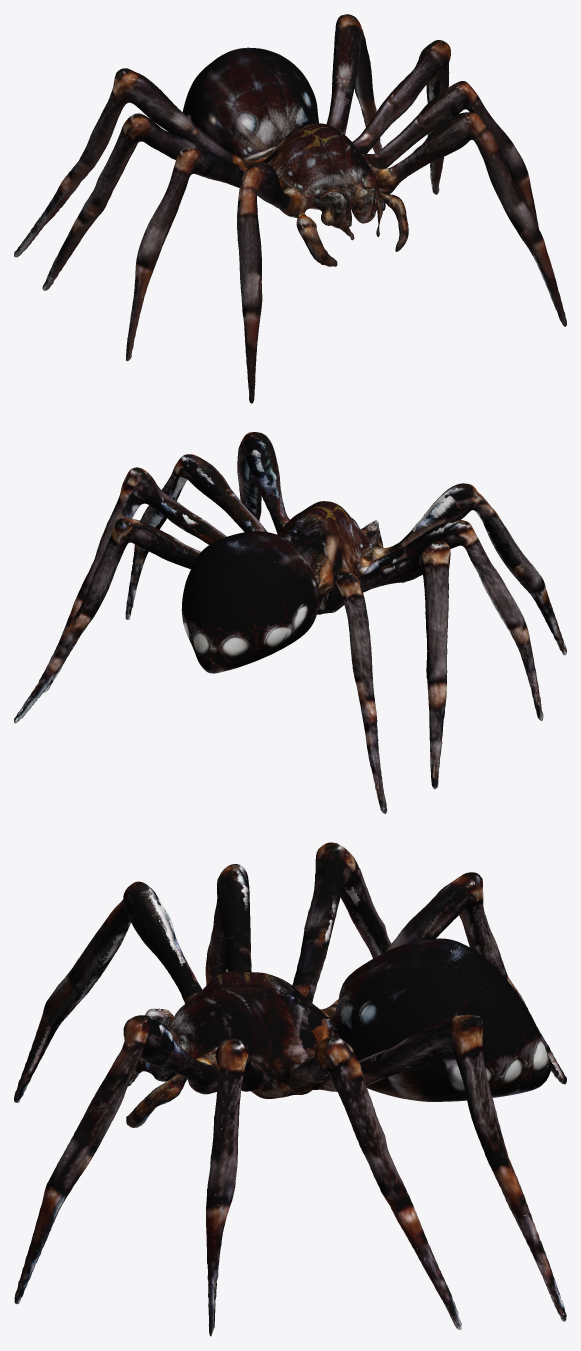
File: spider.glb
3 views of the same model, one above another, from view 1: azimuth 30°, elevation 25°; view 2: azimuth 150°, elevation 25°; view 3: azimuth 270°, elevation 25° (orthographic). The views are drawn at different scales.
Size of the model in its own units: 1.8 by 0.8311 by 1.57.
Materials: 1 (1 with a texture image).
